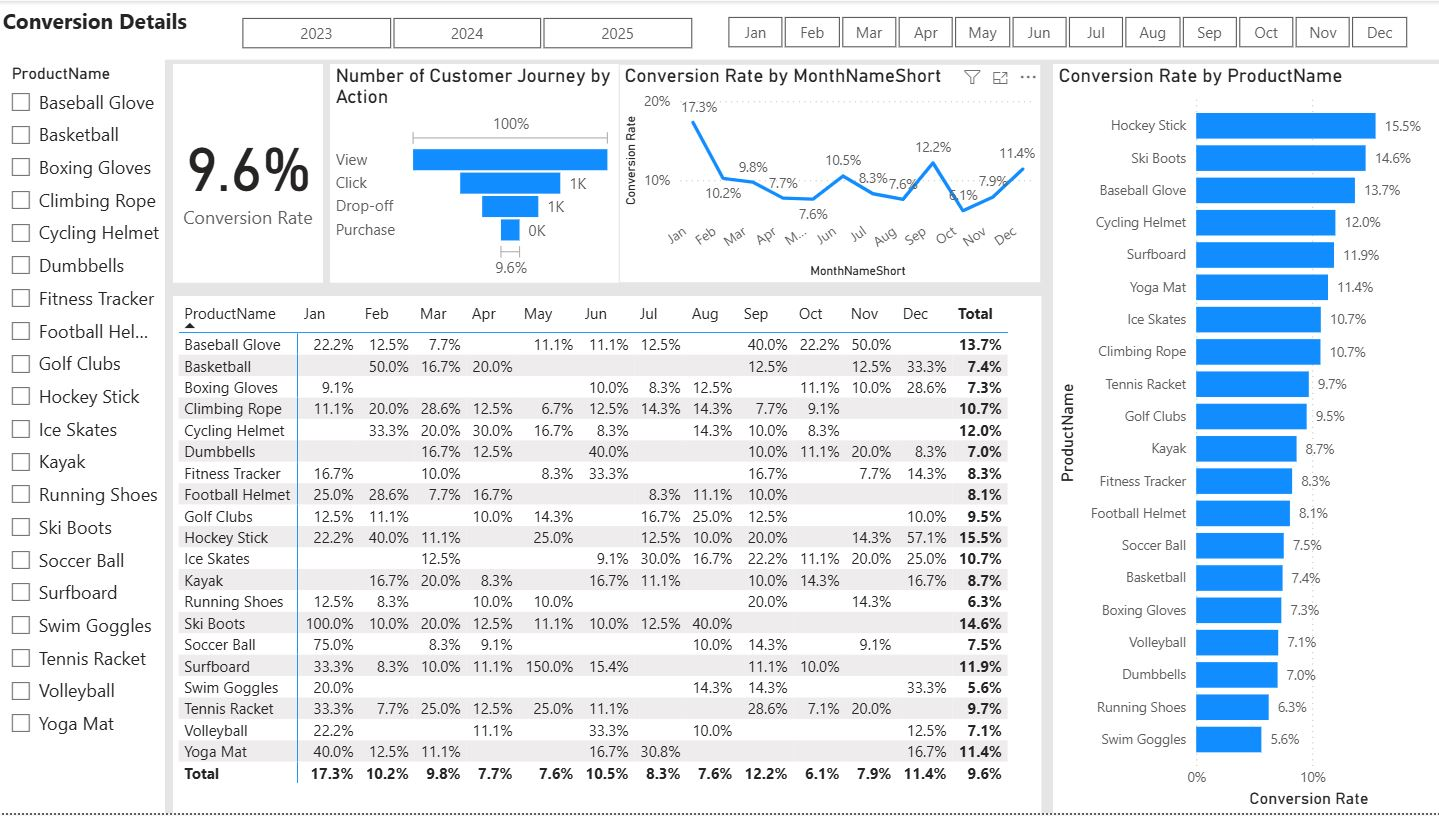

This screenshot's page, from the dashboard's own definition file:
{"tool":"powerbi","page":{"name":"CONVERSION DETAILS","canvas":[1280,720],"ordinal":1},"visuals":[{"type":"textbox","box":[0,0,1280.4,52.3],"z":0},{"type":"slicer","fields":{"Values":["dm_products.ProductName"]},"box":[0,51.4,149,669.5],"z":1000},{"type":"card","fields":{"Values":["_Calculations.Conversion Rate"]},"box":[156.1,55.9,133,194.2],"z":2000},{"type":"slicer","fields":{"Values":["Calendar.Year"]},"box":[191.5,8,448.7,36.4],"z":3000},{"type":"slicer","fields":{"Values":["Calendar.MonthNameShort"]},"box":[622.5,7.1,651.7,37.2],"z":4000},{"type":"lineChart","fields":{"Y":["_Calculations.Conversion Rate"],"Category":["Calendar.MonthNameShort"]},"box":[551.5,55.9,374.2,194.2],"z":5000},{"type":"clusteredBarChart","fields":{"Category":["dm_products.ProductName"],"Y":["_Calculations.Conversion Rate"]},"box":[936.4,55.9,344,664.1],"z":6000},{"type":"pivotTable","fields":{"Values":["_Calculations.Conversion Rate"],"Rows":["dm_products.ProductName"],"Columns":["Calendar.MonthNameShort"]},"box":[156.1,261.6,769.7,459.3],"z":7000},{"type":"funnel","fields":{"Y":["_Calculations.Number of Customer Journey"],"Category":["fact_customer_journey.Action"]},"box":[295.3,55.9,256.3,194.2],"z":8000}]}

Visuals, with their boxes in screenshot pixels (x1, y1, x2, y2), scaled from the page's 1280x720 canvas onto the 1439x816 screenshot:
textbox: x1=0 y1=0 x2=1438 y2=59
slicer - dm_products.ProductName: x1=0 y1=58 x2=168 y2=815
card - _Calculations.Conversion Rate: x1=175 y1=63 x2=325 y2=283
slicer - Calendar.Year: x1=215 y1=9 x2=720 y2=50
slicer - Calendar.MonthNameShort: x1=700 y1=8 x2=1432 y2=50
lineChart - _Calculations.Conversion Rate x Calendar.MonthNameShort: x1=620 y1=63 x2=1041 y2=283
clusteredBarChart - dm_products.ProductName x _Calculations.Conversion Rate: x1=1053 y1=63 x2=1438 y2=815
pivotTable - _Calculations.Conversion Rate x dm_products.ProductName: x1=175 y1=296 x2=1041 y2=815
funnel - _Calculations.Number of Customer Journey x fact_customer_journey.Action: x1=332 y1=63 x2=620 y2=283
